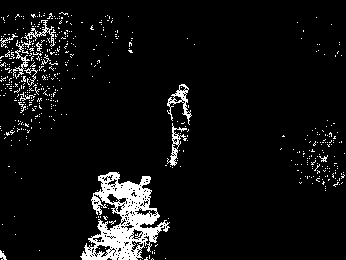person: (164, 82, 192, 170)
